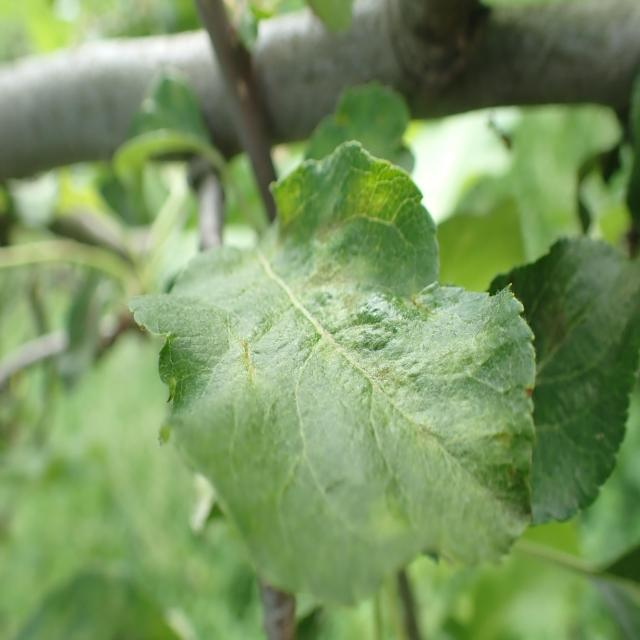scab: (142, 175, 494, 510), (496, 218, 613, 479)
